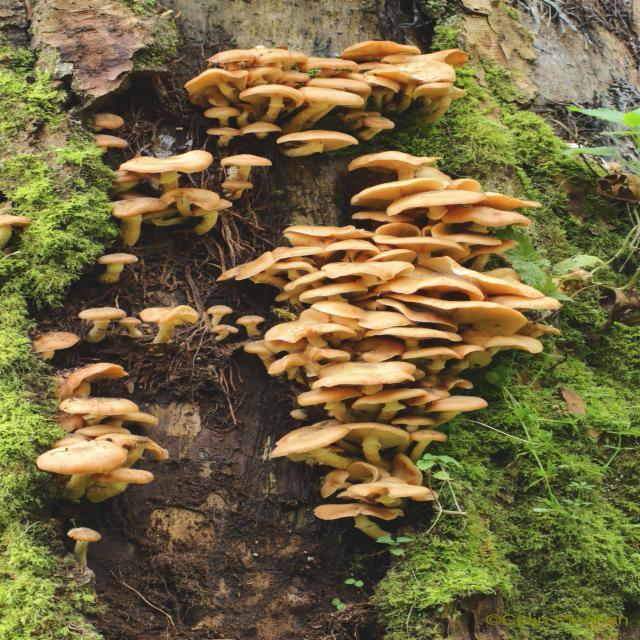Armillaria mellea: (240, 180, 555, 536), (34, 299, 228, 492), (195, 38, 461, 159), (81, 113, 268, 283)
